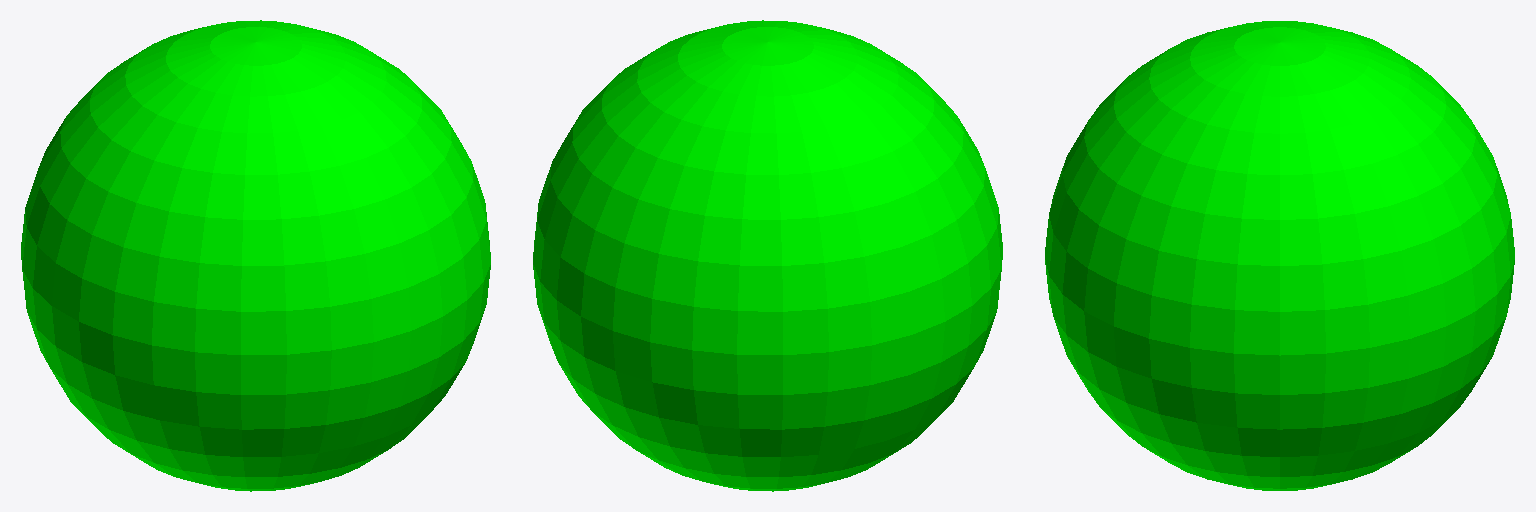
URDF robot description (simple_arm):
<?xml version="1.0"?>
<robot name="simple_arm">

  <!-- Define materials -->
  <material name="red">
    <color rgba="1 0 0 1"/>
  </material>
  <material name="green">
    <color rgba="0 1 0 1"/>
  </material>
  <material name="white">
    <color rgba="1 1 1 1"/>
  </material>


  <!-- Define links -->
  <link name="base_link"/>

  <link name="link1">
    <visual>
      <origin xyz="0 0 0.25" rpy="0 0 0"/>
      <geometry>
        <capsule length="0.5" radius="0.05"/>
      </geometry>
      <material name="white"/>
    </visual>
    <collision>
     <origin xyz="0 0 0.25" rpy="0 0 0"/>
      <geometry>
        <capsule length="0.5" radius="0.05"/>
      </geometry>
    </collision>
  </link>

  <link name="link2">
    <visual>
     <origin xyz="0 0 0.2" rpy="0 0 0"/>
      <geometry>
        <capsule length="0.4" radius="0.04"/>
      </geometry>
      <material name="white"/>
    </visual>
    <collision>
     <origin xyz="0 0 0.2" rpy="0 0 0"/>
      <geometry>
        <capsule length="0.4" radius="0.04"/>
      </geometry>
    </collision>
  </link>

  <link name="link3">
    <visual>
     <origin xyz="0 0 0.15" rpy="0 0 0"/>
      <geometry>
        <capsule length="0.3" radius="0.03"/>
      </geometry>
      <material name="white"/>
    </visual>
    <collision>
     <origin xyz="0 0 0.15" rpy="0 0 0"/>
      <geometry>
        <capsule length="0.3" radius="0.03"/>
      </geometry>
    </collision>
  </link>

  <link name="linkEE">
    <visual>
     <origin xyz="0 0 0" rpy="0 0 0"/>
      <geometry>
        <sphere radius="0.04"/>
      </geometry>
      <material name="green"/>
    </visual>
    <collision>
          <origin xyz="0 0 0" rpy="0 0 0"/>
      <geometry>
        <sphere radius="0.04"/>
      </geometry>
      <material name="green"/>
    </collision>
  </link>

  <!-- Define joints -->
  <joint name="joint1" type="revolute">
    <parent link="base_link"/>
    <child link="link1"/>
    <origin xyz="0 0 0" rpy="0 0 0"/>
    <axis xyz="0 0 1"/>
    <limit effort="100" lower="-3.1415" upper="1.5707" velocity="10"/>
  </joint>

  <joint name="joint2" type="revolute">
    <parent link="link1"/>
    <child link="link2"/>
    <origin xyz="0 0 0.5" rpy="0 0 0"/>
    <axis xyz="1 0 0"/>
    <limit effort="100" lower="-1.5707" upper="1.5707" velocity="10"/>
  </joint>

  <joint name="joint3" type="revolute">
    <parent link="link2"/>
    <child link="link3"/>
    <origin xyz="0 0 0.4" rpy="0 0 0"/>
    <axis xyz="1 0 0"/>
    <limit effort="100" lower="-1.5707" upper="1.5707" velocity="10"/>
  </joint>

  <joint name="jointEE" type="fixed">
    <parent link="link3"/>
    <child link="linkEE"/>
    <origin xyz="0 0 0.3" rpy="0 0 0"/>
    <axis xyz="0 0 1"/>
  </joint>

</robot>

--- Render facts (derived) ---
Views: 3 orthographic renders of the robot side by side, from view 1: azimuth 30°, elevation 25°; view 2: azimuth 150°, elevation 25°; view 3: azimuth 270°, elevation 25°.
Model simple_arm with 5 links and 4 joints (3 revolute, 1 fixed), rooted at base_link, posed every joint at zero.
Links seen in each view (by area): view 1: linkEE; view 2: linkEE; view 3: linkEE.
Link boxes in pixels (x1,y1,x2,y2): linkEE: (21, 20, 490, 491); linkEE: (533, 20, 1002, 491); linkEE: (1045, 21, 1514, 490).
Size in the robot's own frame: 0.08 by 0.08 by 0.08 metres.
Geometry: primitives only (box / cylinder / sphere), no mesh files.